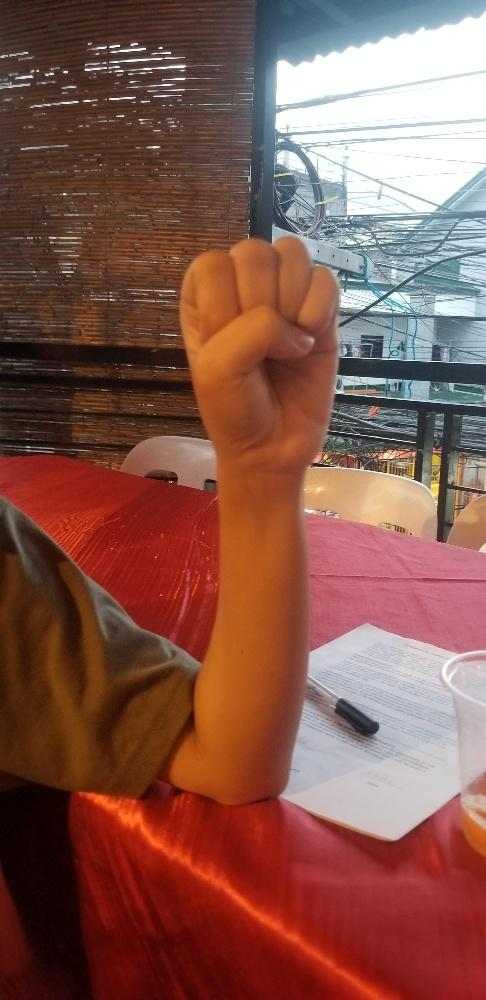s: (177, 234, 339, 463)
